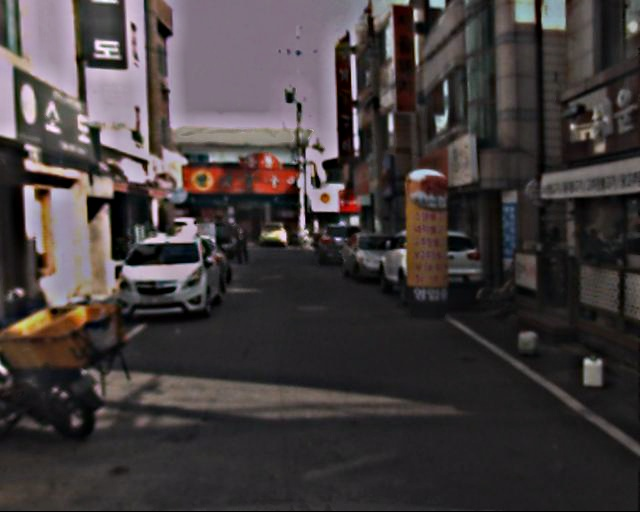person: (235, 220, 255, 265)
